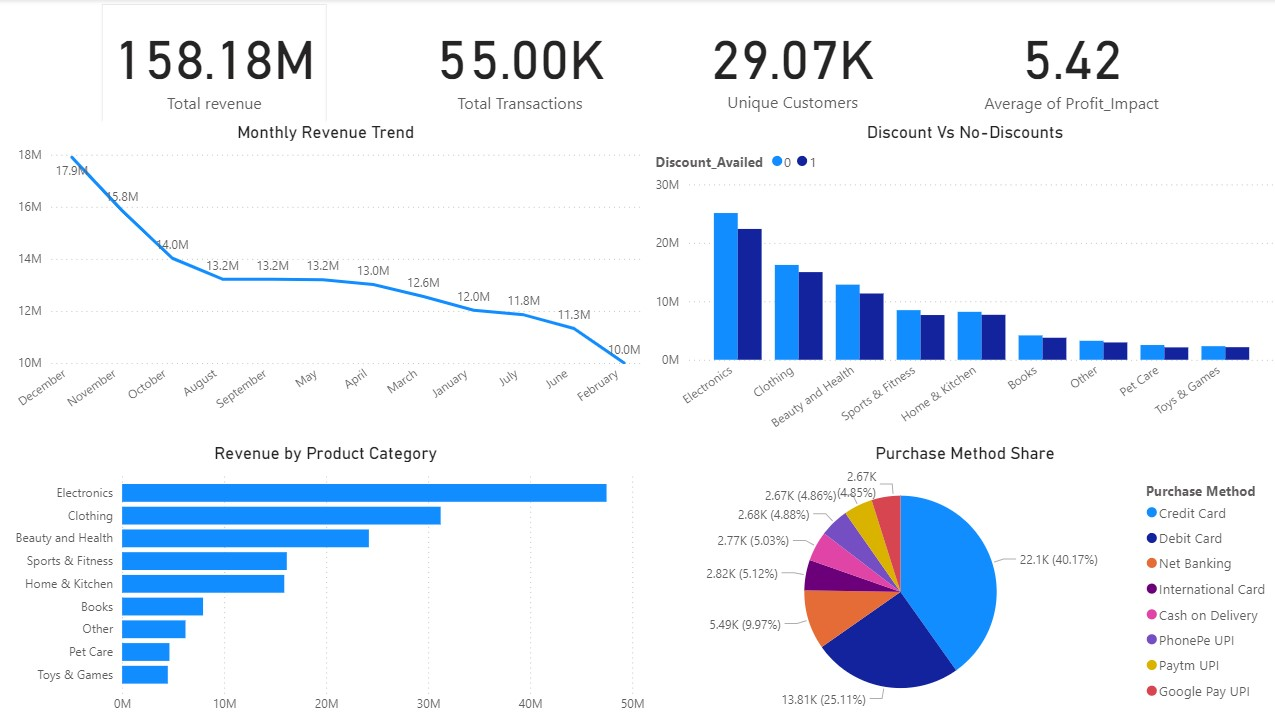

This screenshot's page, from the dashboard's own definition file:
{"tool":"powerbi","page":{"name":"Page 1","canvas":[1280,720],"ordinal":0},"visuals":[{"type":"card","title":"Total Revenue","fields":{"Values":["Sum(ecommerce.Net_Amount)"]},"box":[107.7,5.3,224.5,119.5],"z":0},{"type":"card","title":"Total Transactions","fields":{"Values":["Count(ecommerce.TID)"]},"box":[422.8,5.3,203.5,119.5],"z":1000},{"type":"card","title":"Total Transactions","fields":{"Values":["Count(ecommerce.CID)"]},"box":[702.4,3.9,186.4,120.8],"z":2000},{"type":"card","title":"Avg Profit Impact (%)","fields":{"Values":["Avg(ecommerce.Profit_Impact)"]},"box":[978.1,5.3,191.7,119.5],"z":3000},{"type":"lineChart","title":"Monthly Revenue Trend ","fields":{"Y":["Sum(ecommerce.Net_Amount)"],"Category":["ecommerce.Purchase_Month"]},"box":[9.2,122.1,644.6,308.5],"z":4000},{"type":"clusteredBarChart","fields":{"Category":["ecommerce.Product_Category"],"Y":["Sum(ecommerce.Net_Amount)"]},"box":[9.2,441.1,644.6,278.3],"z":5000},{"type":"clusteredColumnChart","title":"Discount Vs No-Discounts","fields":{"Y":["Sum(ecommerce.Net_Amount)"],"Category":["ecommerce.Product_Category"],"Series":["ecommerce.Discount_Availed"]},"box":[653.8,122.1,626.3,319],"z":6000},{"type":"pieChart","title":"Purchase Method Share","fields":{"Category":["ecommerce.Purchase_Method"],"Y":["CountNonNull(ecommerce.TID)"]},"box":[654,441,626,278],"z":7000}]}

Visuals, with their boxes in screenshot pixels (x1, y1, x2, y2), scaled from the page's 1280x720 canvas onto the 1275x717 screenshot:
"Total Revenue" card: bbox=(107, 5, 331, 124)
"Total Transactions" card: bbox=(421, 5, 624, 124)
"Total Transactions" card: bbox=(700, 4, 885, 124)
"Avg Profit Impact (%)" card: bbox=(974, 5, 1165, 124)
"Monthly Revenue Trend " lineChart: bbox=(9, 122, 651, 429)
clusteredBarChart - ecommerce.Product_Category x Sum(ecommerce.Net_Amount): bbox=(9, 439, 651, 716)
"Discount Vs No-Discounts" clusteredColumnChart: bbox=(651, 122, 1274, 439)
"Purchase Method Share" pieChart: bbox=(651, 439, 1274, 716)
